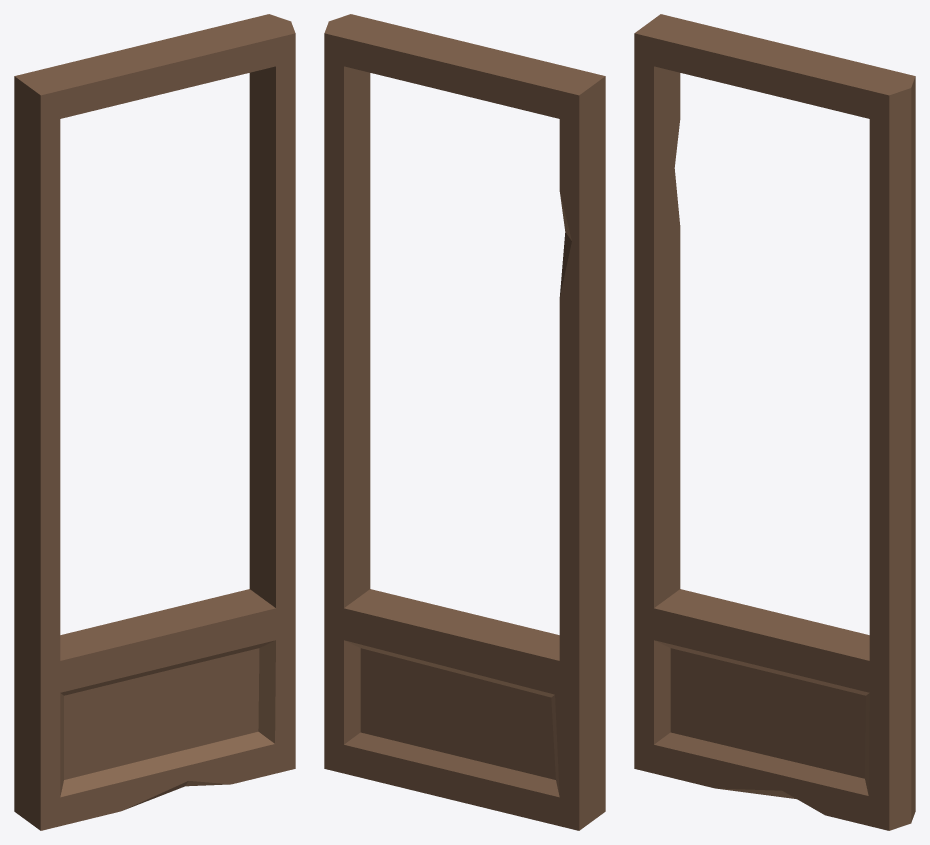
File: SM_Bld_Village_Window_Fold_R_01.glb
3 views of the same model, side by side, from view 1: azimuth 30°, elevation 25°; view 2: azimuth 150°, elevation 25°; view 3: azimuth 330°, elevation 25° (orthographic).
Parts seen in each view (by area): view 1: SM_Bld_Village_Window_Fold_R_01; view 2: SM_Bld_Village_Window_Fold_R_01; view 3: SM_Bld_Village_Window_Fold_R_01.
Part boxes in pixels (box(x1,y1,x2,y2)): SM_Bld_Village_Window_Fold_R_01: box(14, 14, 295, 830); SM_Bld_Village_Window_Fold_R_01: box(324, 14, 605, 830); SM_Bld_Village_Window_Fold_R_01: box(634, 14, 915, 830).
Size of the model in its own units: 0.5101 by 1.36 by 0.0884.
1 material, 1 textured.
